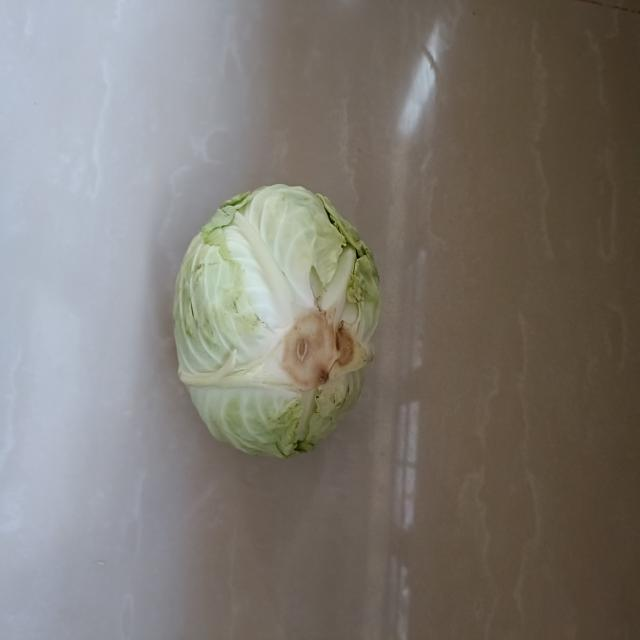cabbage: (170, 179, 384, 465)
